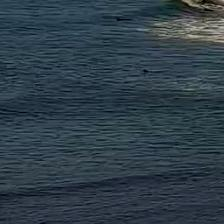surfer: (118, 16, 132, 22), (142, 68, 155, 74), (204, 8, 214, 12), (200, 0, 208, 3)
